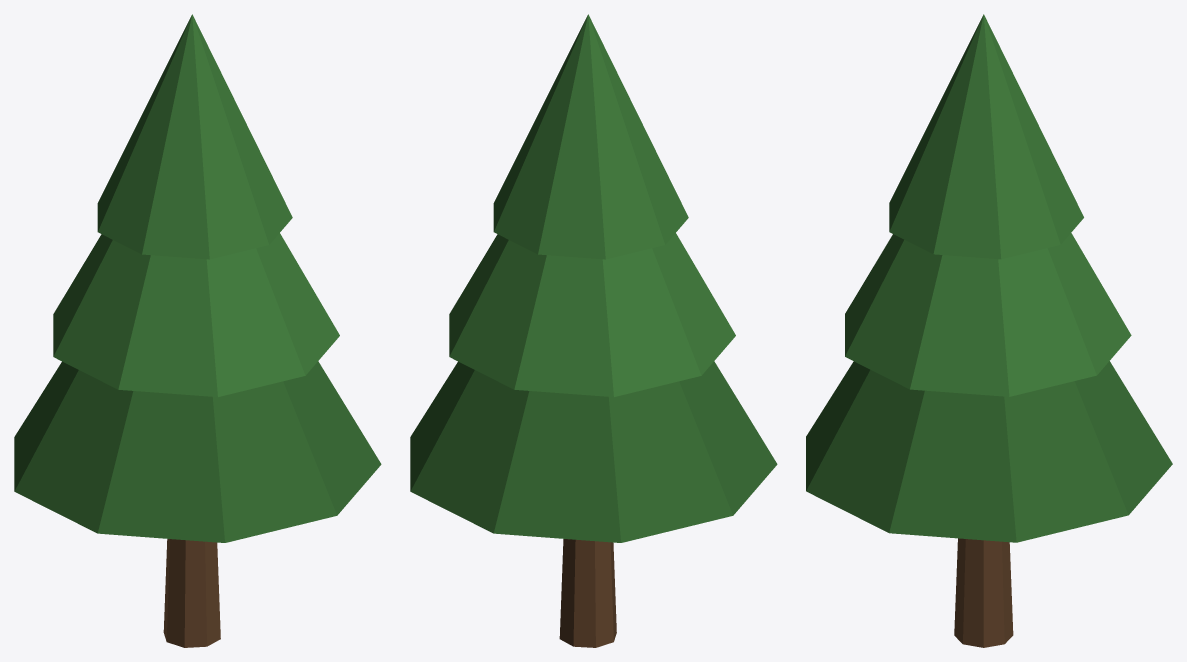
The model's file is tree.glb.
3 views of the same model, side by side, from view 1: azimuth 30°, elevation 25°; view 2: azimuth 150°, elevation 25°; view 3: azimuth 270°, elevation 25° (orthographic).
Visible parts, largest first — view 1: crown_0, crown_1, crown_2, trunk; view 2: crown_0, crown_1, crown_2, trunk; view 3: crown_0, crown_1, crown_2, trunk.
Boxes of the visible parts, <box> form: crown_0: <box>14,361,381,542</box>; crown_1: <box>53,233,339,397</box>; crown_2: <box>97,14,292,259</box>; trunk: <box>163,539,220,647</box>; crown_0: <box>410,361,777,542</box>; crown_1: <box>449,233,735,397</box>; crown_2: <box>493,14,688,259</box>; trunk: <box>559,539,616,647</box>; crown_0: <box>806,361,1172,542</box>; crown_1: <box>845,233,1131,396</box>; crown_2: <box>889,14,1083,259</box>; trunk: <box>954,538,1013,647</box>.
Bounding box in the file's own units: 3.15 × 5.8 × 3.1.
